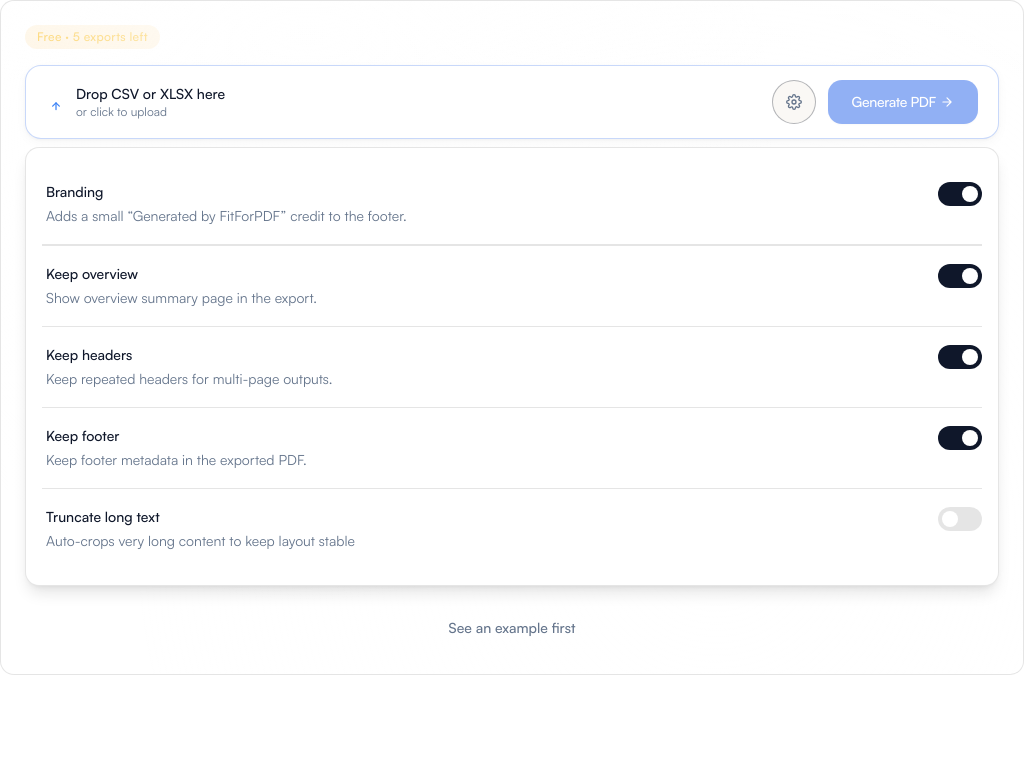
Test: UploadCard unit behavior › not now hides the branding upgrade nudge and tracks dismissal
The image size is (1024, 768).
Click the text "Branding" at [75, 192], box [46,183,103,200]
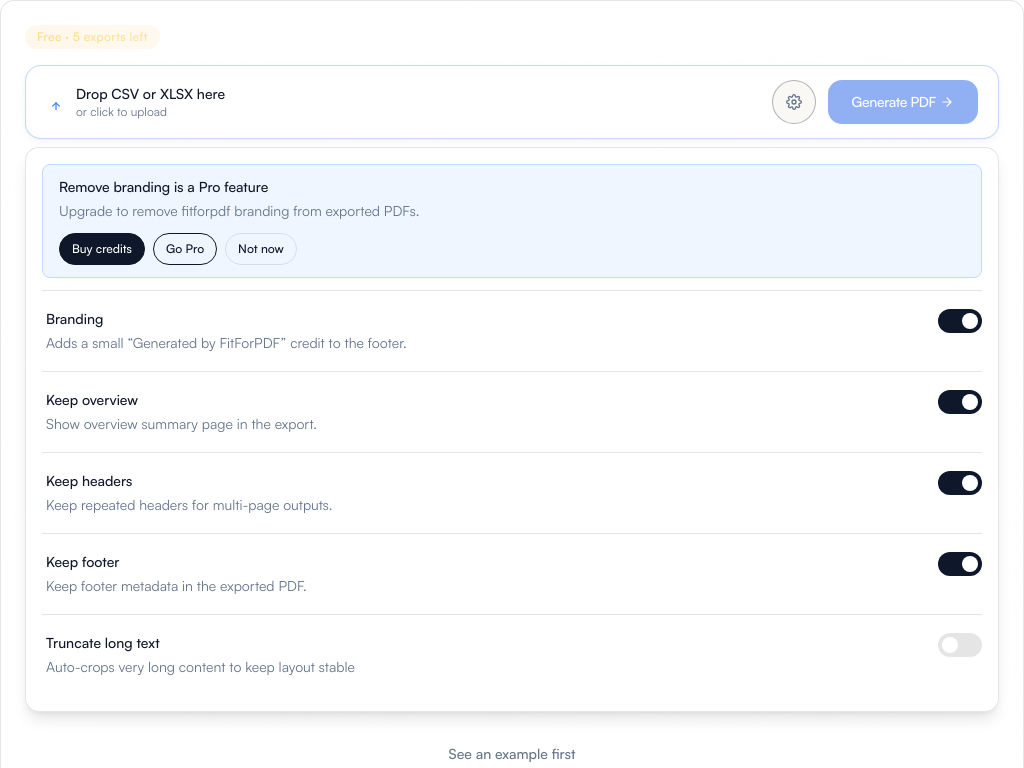
Expected: the element with test id "branding-upgrade-nudge" is shown, [42,164,982,278]
Click the button "Not now" at [261, 249], box [225,233,297,265]
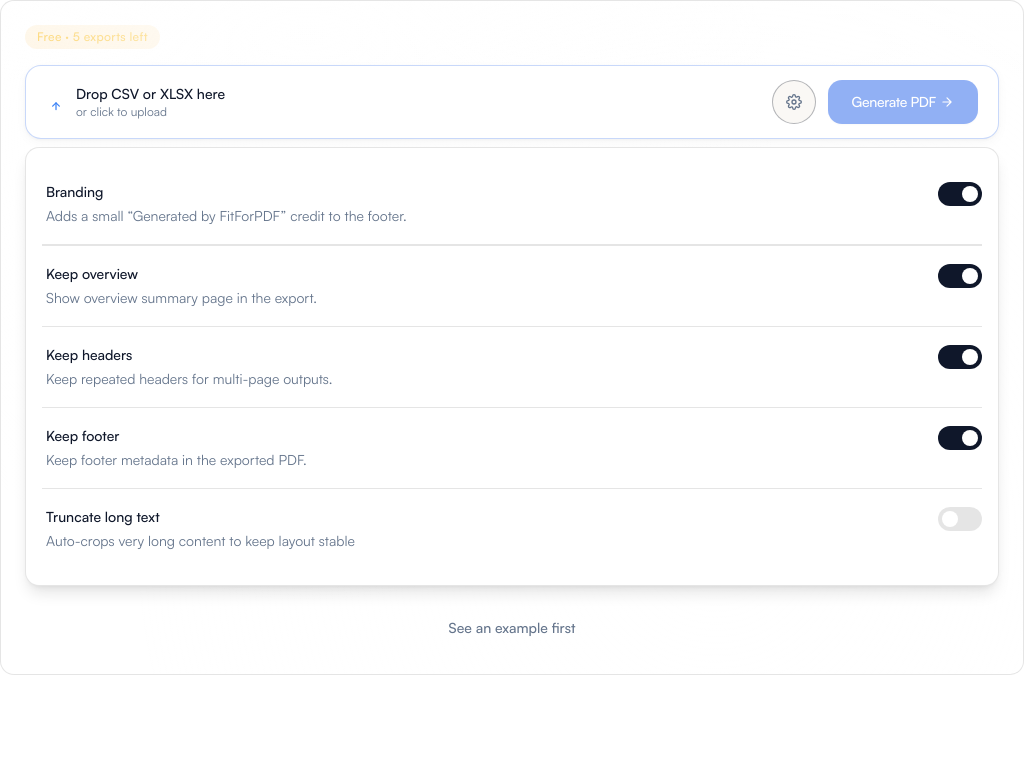
Expected: the element with test id "branding-upgrade-nudge" is gone
